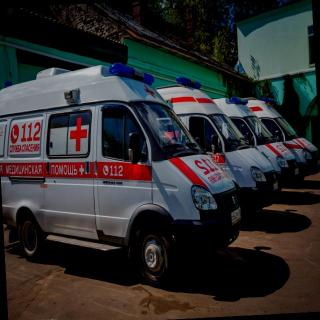Ambulance: (0, 58, 250, 312)
